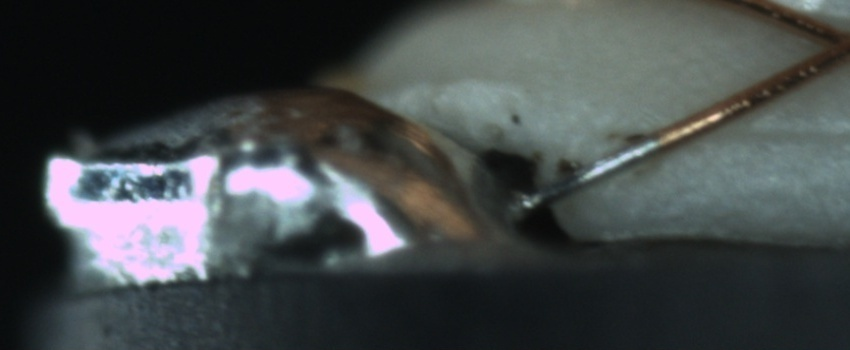CL: (800, 13, 850, 74)
DL: (707, 99, 849, 164)
TS: (514, 138, 660, 208)
